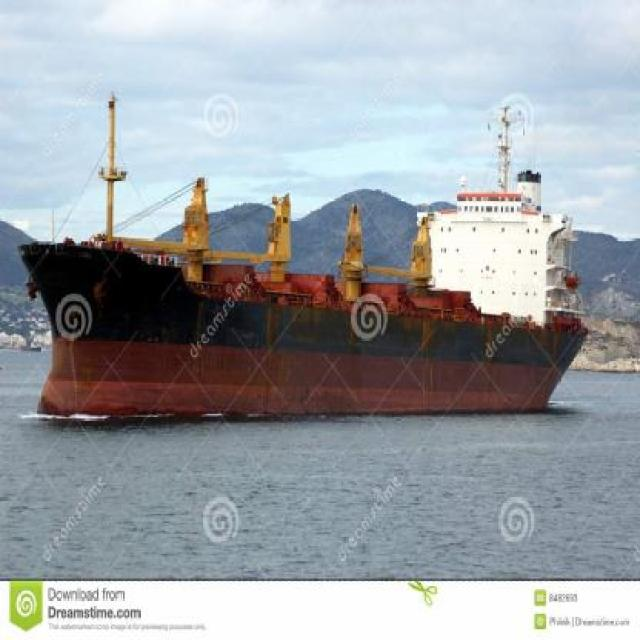corrosion: (19, 227, 590, 421)
